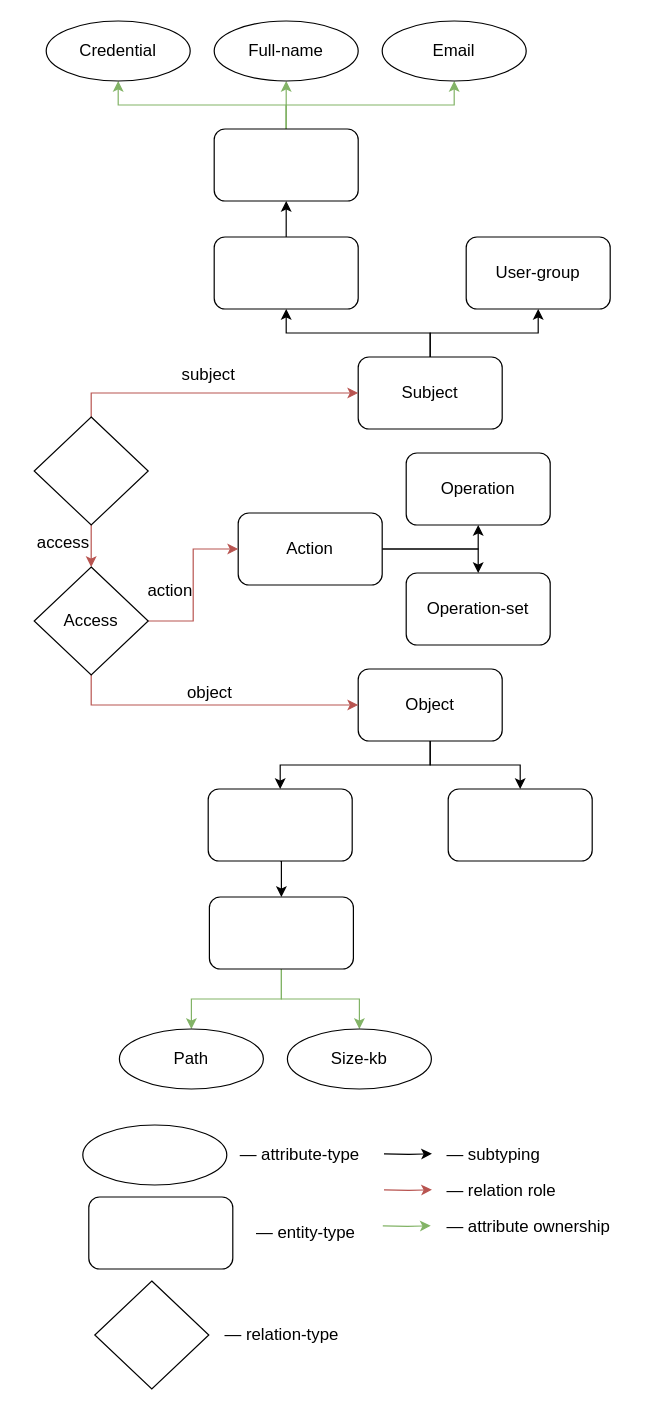
The diagram is 656 pixels wide and 1410 high, and some of its shapes have lost their labels. Here are the shapes that lost their labels. From the top down, the centre of each, then its label:
[285,164]: Person
[285,272]: User
[90,470]: Permission
[279,824]: Resource
[519,824]: Resource- collection
[280,932]: File
